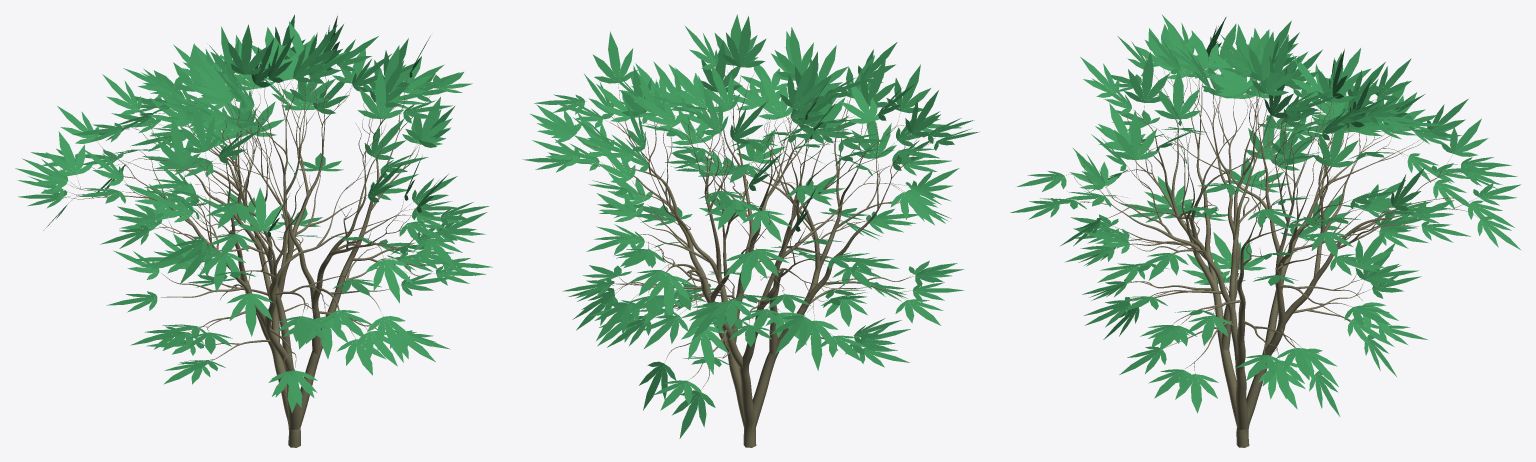
Rendered from tree_1.gltf.
3 renders of one model, left to right at view 1: azimuth 30°, elevation 25°; view 2: azimuth 150°, elevation 25°; view 3: azimuth 270°, elevation 25°, orthographic.
Visible parts, largest first — view 1: leaves.003, tree.003; view 2: leaves.003, tree.003; view 3: leaves.003, tree.003.
Boxes of the visible parts, <box> form: leaves.003: <box>15,14,492,412</box>; tree.003: <box>65,66,441,447</box>; leaves.003: <box>522,14,978,438</box>; tree.003: <box>575,66,930,447</box>; leaves.003: <box>1010,15,1521,416</box>; tree.003: <box>1066,69,1480,447</box>.
Size of the model in its own units: 10.42 by 9.96 by 11.87.
